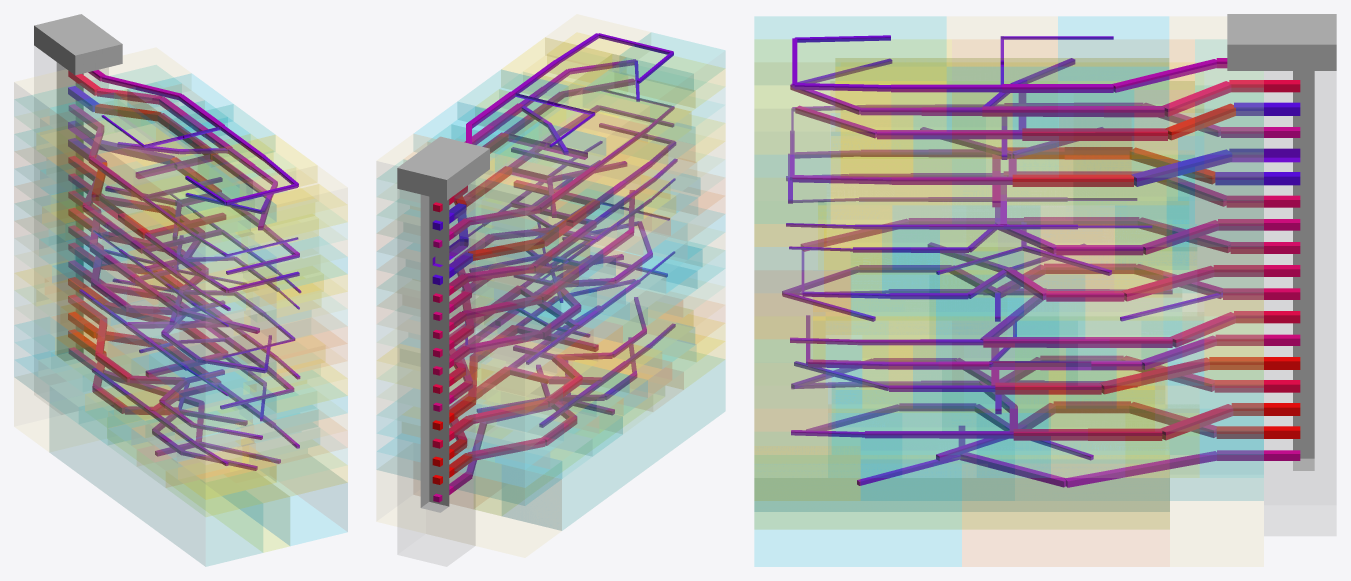
3 renders of one model, left to right at view 1: azimuth 30°, elevation 25°; view 2: azimuth 150°, elevation 25°; view 3: azimuth 270°, elevation 25°, orthographic. The views are drawn at different scales.
Parts seen in each view (by area): view 1: 8676c3b2-f14f-4640-a455-eee210d78148, c73a0267-f6a4-452a-bb97-8d78f9ef135d, e72258b4-7435-46b8-921f-9fa1b710138c, 5c9833d5-02fb-454c-bb42-4b6b9f7996ab, a43d2a23-03a2-4c29-a8f4-a7456a3e14fd, 580a754e-62ff-4bcf-8601-fd0f90b6bc45, 950ce1f2-0bf0-4f19-8db0-ed4ff9748f14, c010bd9d-d09c-4514-b1ab-4e88ce06b8db, eebcc0ba-06c2-4890-980c-97d818f2a8a3, bc8135d2-2f43-4af4-af53-209f6053e72c, be005973-b812-4bab-a5b7-e5a11635127f, b5aa9957-d927-4590-9811-51ea8bbab7f7 (+111 smaller); view 2: d9390a40-889f-45b4-99b8-5e72f300faa0, 8676c3b2-f14f-4640-a455-eee210d78148, a1cfb2db-88dd-461a-892d-b081cc436c9d, bc8135d2-2f43-4af4-af53-209f6053e72c, b5aa9957-d927-4590-9811-51ea8bbab7f7, c73a0267-f6a4-452a-bb97-8d78f9ef135d, 637f69ac-a20c-41cb-b199-c2baa0a5f298, 857cddeb-2763-4a76-8238-97a10f287c3a, 8e88d876-913b-4438-8688-bbf74fab6015, af59c75c-3c60-4b40-b342-cc6cebcf066c, e9036a6a-03f5-408c-a57a-551c362d6880, 6cbf3266-f198-46d9-8d53-d272838cd8f0 (+105 smaller); view 3: d9390a40-889f-45b4-99b8-5e72f300faa0, be005973-b812-4bab-a5b7-e5a11635127f, 89a19e28-d390-4d1b-9566-cd5bd2daf6d2, 429c9a78-c0cc-46c0-900d-dd954dcbd133, 4a653145-7c1a-4e01-9a7f-049a7eb38c69, b8d717ee-434b-4e0c-8006-36c1fbffac52, f6443b64-59f0-4d1e-8bd2-e5c79fa71afc, a1cfb2db-88dd-461a-892d-b081cc436c9d, c73a0267-f6a4-452a-bb97-8d78f9ef135d, 12cc2133-838a-4a83-bbc9-31ae58bbd55e, 5fb329d2-4940-44e5-b3fa-1a27d8cfc5c2, 1b5cbd40-a6d5-412c-8548-c64789fbc4fa (+153 smaller).
Boxes of the visible parts, x1,y1,x2,y2 form: 8676c3b2-f14f-4640-a455-eee210d78148: (50,399,262,566); c73a0267-f6a4-452a-bb97-8d78f9ef135d: (14,48,190,124); e72258b4-7435-46b8-921f-9fa1b710138c: (177,185,347,256); 5c9833d5-02fb-454c-bb42-4b6b9f7996ab: (166,453,347,516); a43d2a23-03a2-4c29-a8f4-a7456a3e14fd: (174,210,347,273); 580a754e-62ff-4bcf-8601-fd0f90b6bc45: (177,418,347,481); 950ce1f2-0bf0-4f19-8db0-ed4ff9748f14: (170,314,347,377); c010bd9d-d09c-4514-b1ab-4e88ce06b8db: (175,401,347,464); eebcc0ba-06c2-4890-980c-97d818f2a8a3: (184,349,347,412); bc8135d2-2f43-4af4-af53-209f6053e72c: (56,62,83,360); be005973-b812-4bab-a5b7-e5a11635127f: (264,470,347,545); b5aa9957-d927-4590-9811-51ea8bbab7f7: (40,110,178,201); d9390a40-889f-45b4-99b8-5e72f300faa0: (398,181,474,566); 8676c3b2-f14f-4640-a455-eee210d78148: (502,355,724,530); a1cfb2db-88dd-461a-892d-b081cc436c9d: (377,457,561,557); bc8135d2-2f43-4af4-af53-209f6053e72c: (420,194,449,512); b5aa9957-d927-4590-9811-51ea8bbab7f7: (486,112,647,212); c73a0267-f6a4-452a-bb97-8d78f9ef135d: (377,134,561,214); 637f69ac-a20c-41cb-b199-c2baa0a5f298: (531,108,690,233); 857cddeb-2763-4a76-8238-97a10f287c3a: (495,122,605,187); 8e88d876-913b-4438-8688-bbf74fab6015: (583,58,693,122); af59c75c-3c60-4b40-b342-cc6cebcf066c: (539,90,649,154); e9036a6a-03f5-408c-a57a-551c362d6880: (377,384,567,450); 6cbf3266-f198-46d9-8d53-d272838cd8f0: (550,308,692,419); d9390a40-889f-45b4-99b8-5e72f300faa0: (1264,71,1335,535); be005973-b812-4bab-a5b7-e5a11635127f: (755,478,961,566); 89a19e28-d390-4d1b-9566-cd5bd2daf6d2: (962,478,1169,566); 429c9a78-c0cc-46c0-900d-dd954dcbd133: (831,155,1177,200); 4a653145-7c1a-4e01-9a7f-049a7eb38c69: (827,201,1165,246); b8d717ee-434b-4e0c-8006-36c1fbffac52: (832,409,1164,454); f6443b64-59f0-4d1e-8bd2-e5c79fa71afc: (755,501,1169,528); a1cfb2db-88dd-461a-892d-b081cc436c9d: (1170,478,1263,566); c73a0267-f6a4-452a-bb97-8d78f9ef135d: (1170,17,1263,130); 12cc2133-838a-4a83-bbc9-31ae58bbd55e: (851,270,1023,315); 5fb329d2-4940-44e5-b3fa-1a27d8cfc5c2: (1024,270,1196,315); 1b5cbd40-a6d5-412c-8548-c64789fbc4fa: (836,58,1168,89).
Size of the model in its own units: 30000 by 74500 by 80000.
